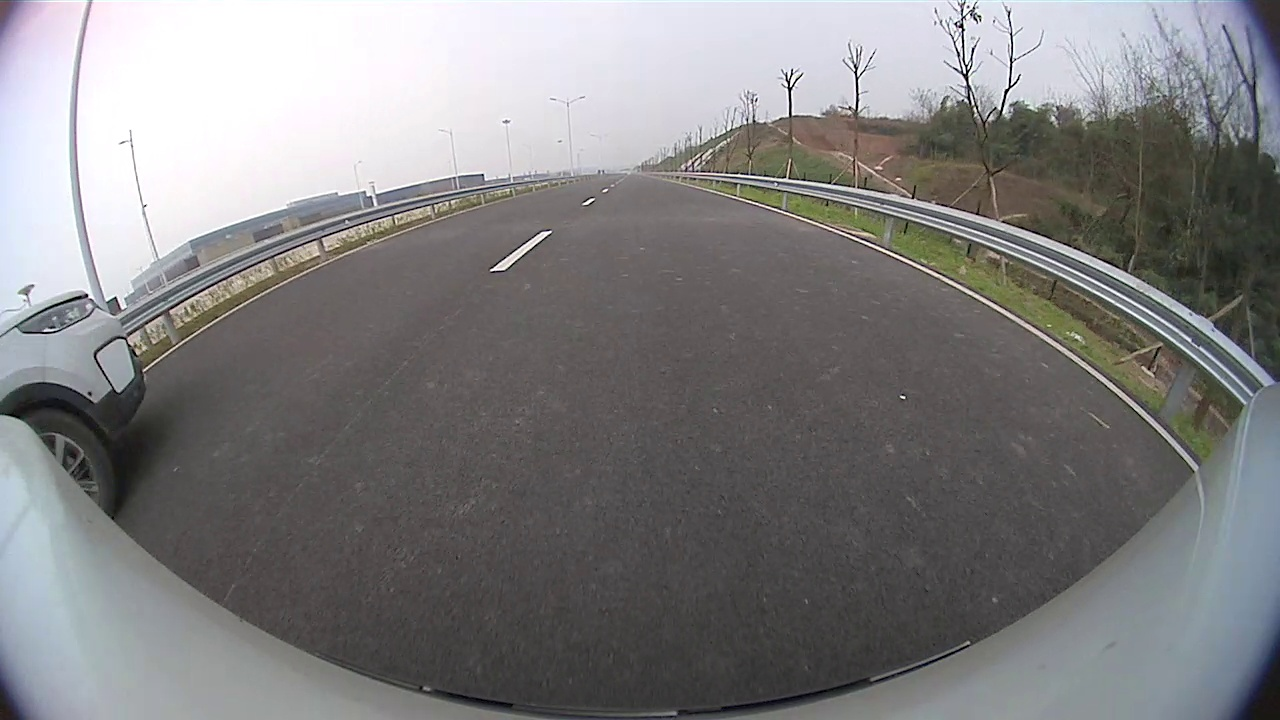car: (1, 287, 143, 532)
front: (18, 407, 117, 520)
